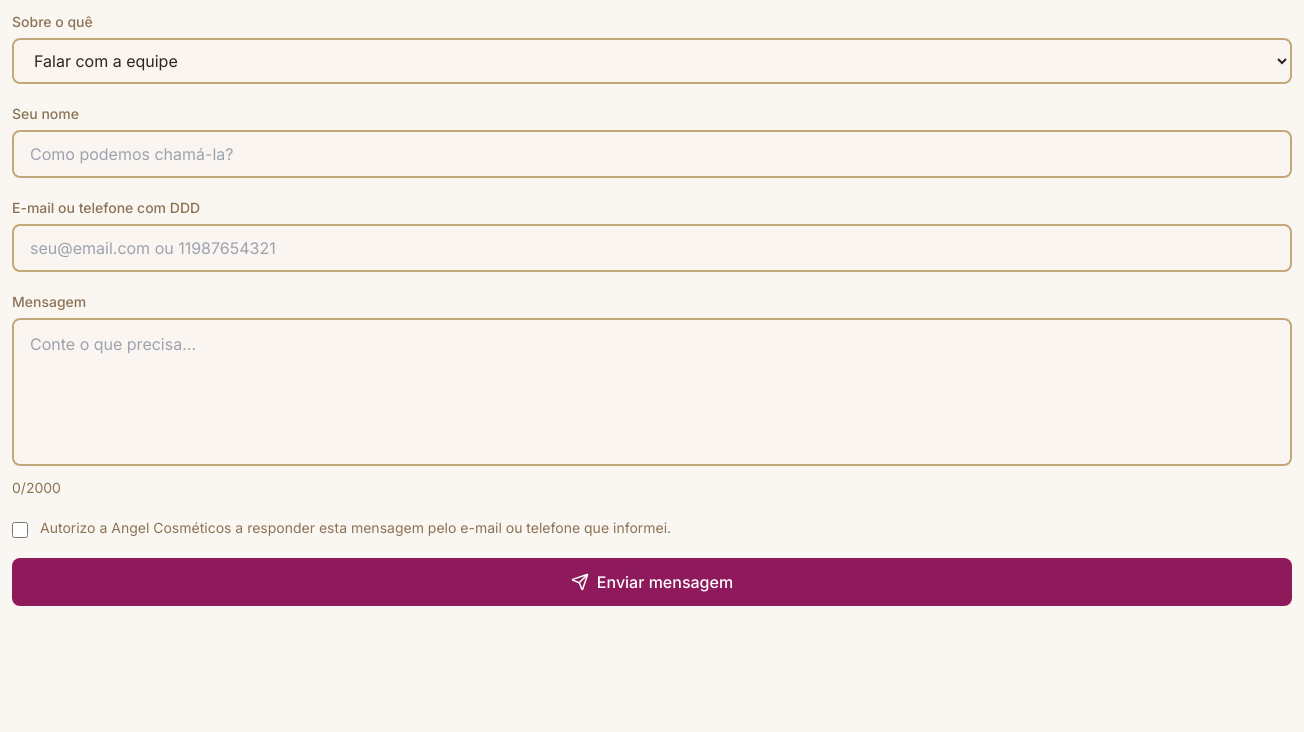
Test: contrato do AtendimentoForm › falha de backend é honesta e preserva os dados
The width and height of the screenshot is (1304, 732).
Type "Ana Paula" into the field labelled "Seu nome".
click(652, 154); type("Ana Paula")  # box [12,130,1292,178]
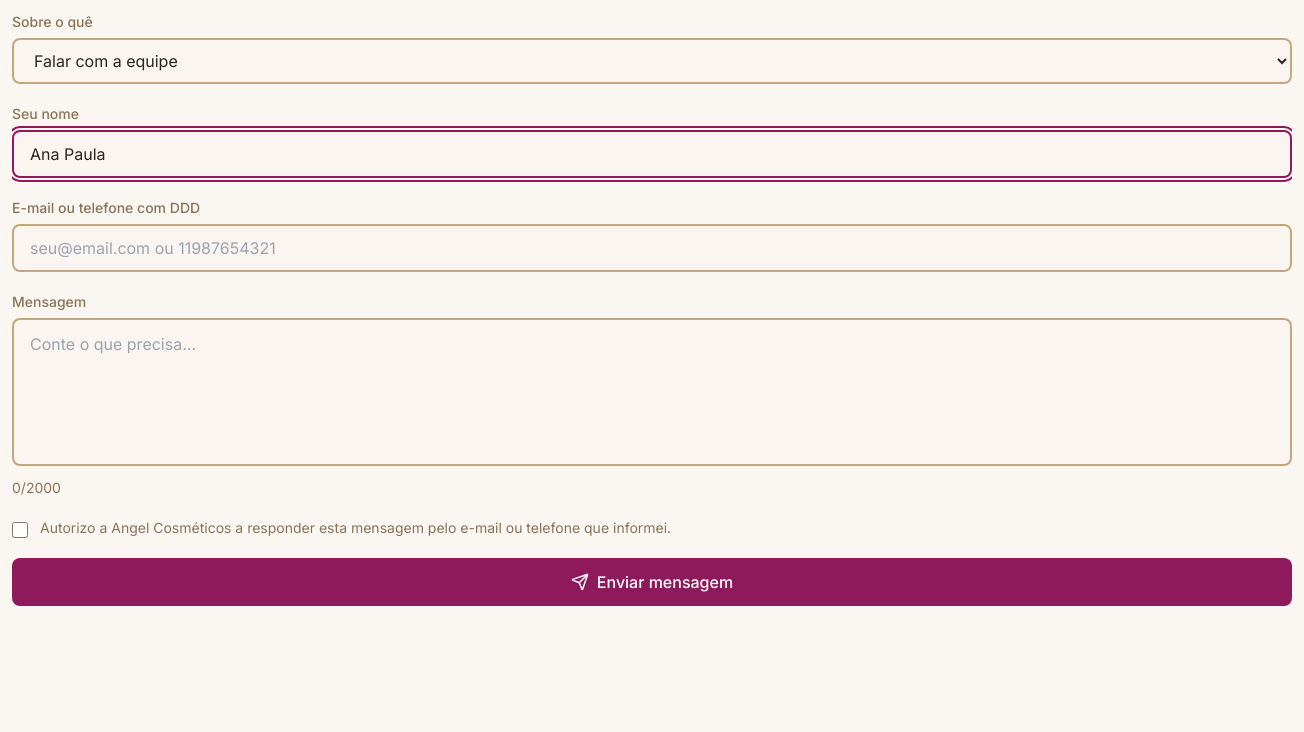
Type "ana@email.com" into the field labelled "E-mail ou telefone com DDD".
click(652, 248); type("ana@email.com")  # box [12,224,1292,272]
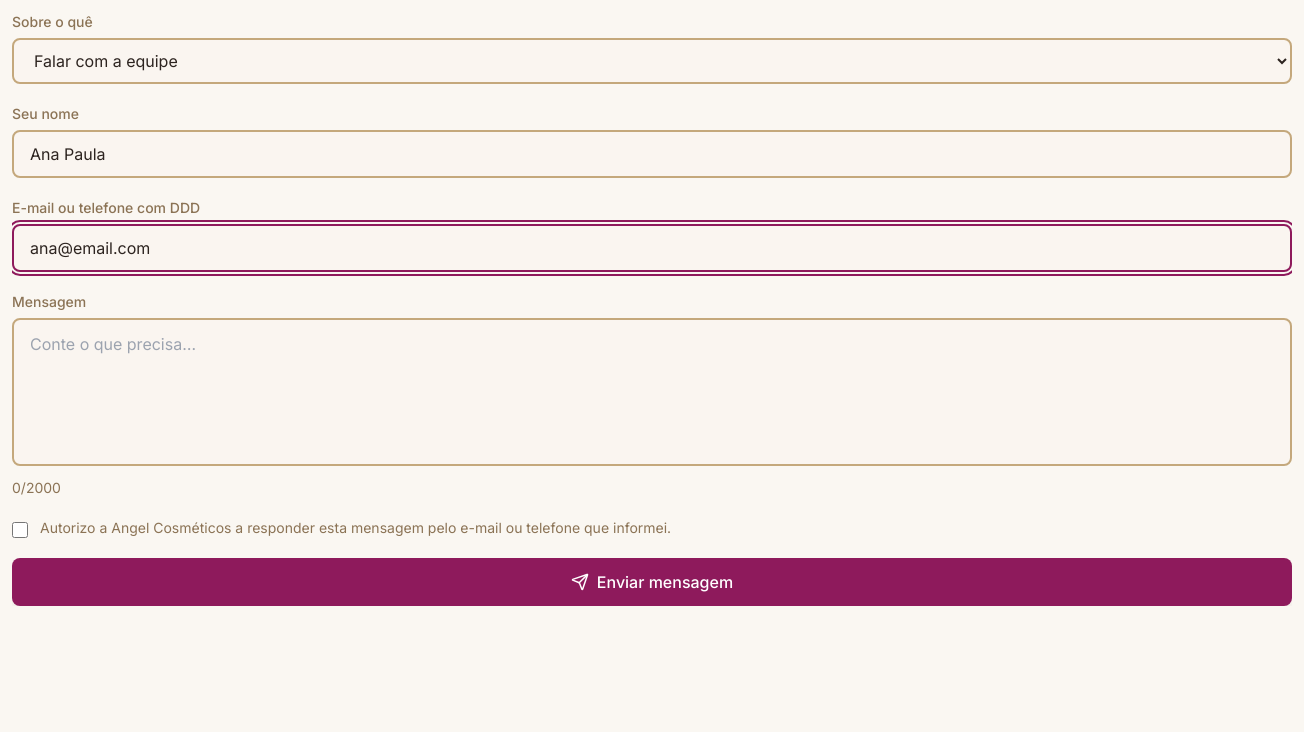
Type "Quero saber sobre o serum." into the text box labelled "Mensagem".
click(652, 392); type("Quero saber sobre o serum.")  # box [12,318,1292,466]
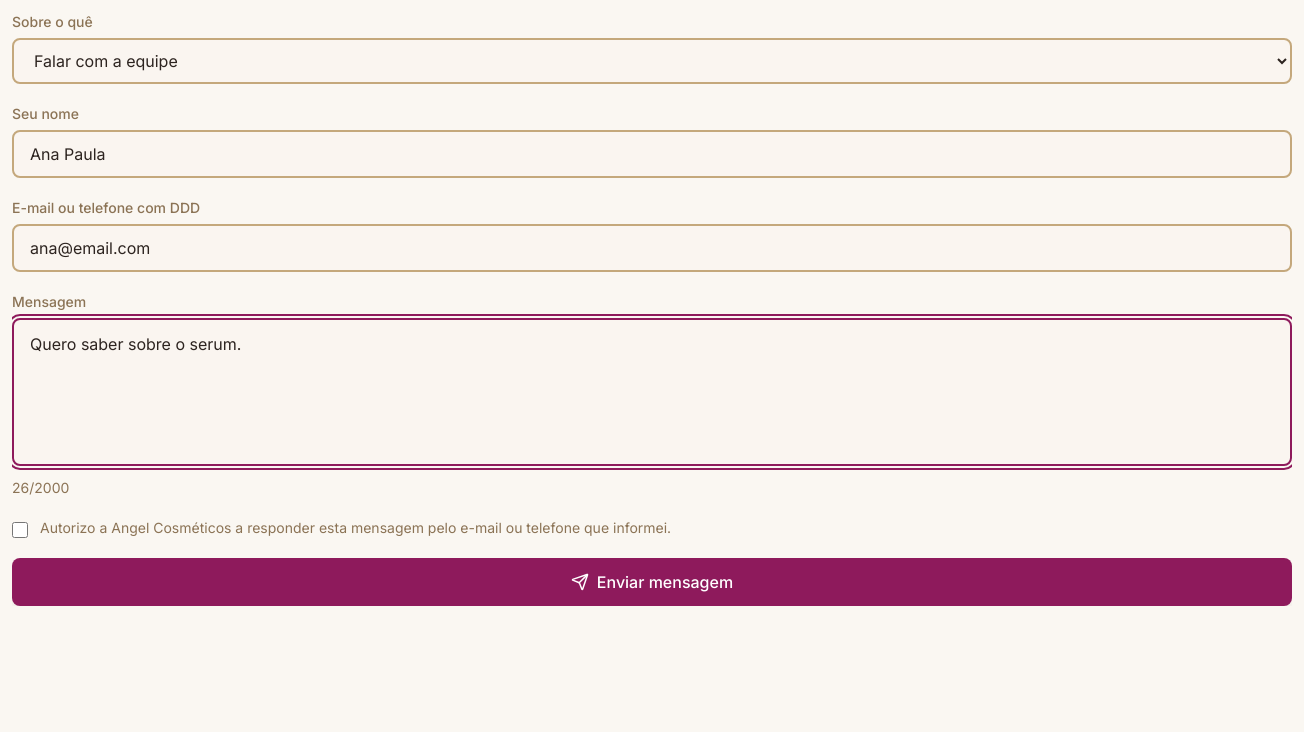
Click the text "Autorizo".
click(356, 528)  # box [40,518,671,538]
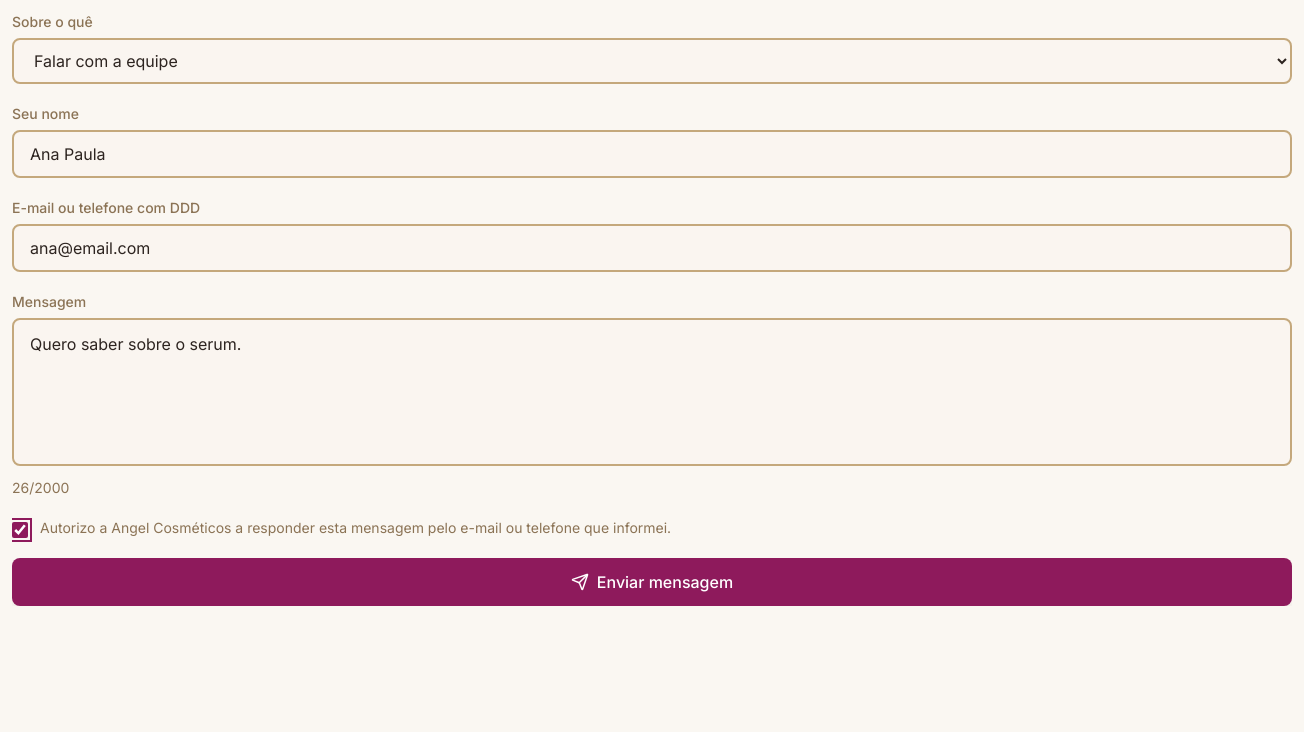
Click the button "Enviar mensagem".
click(652, 582)  # box [12,558,1292,606]
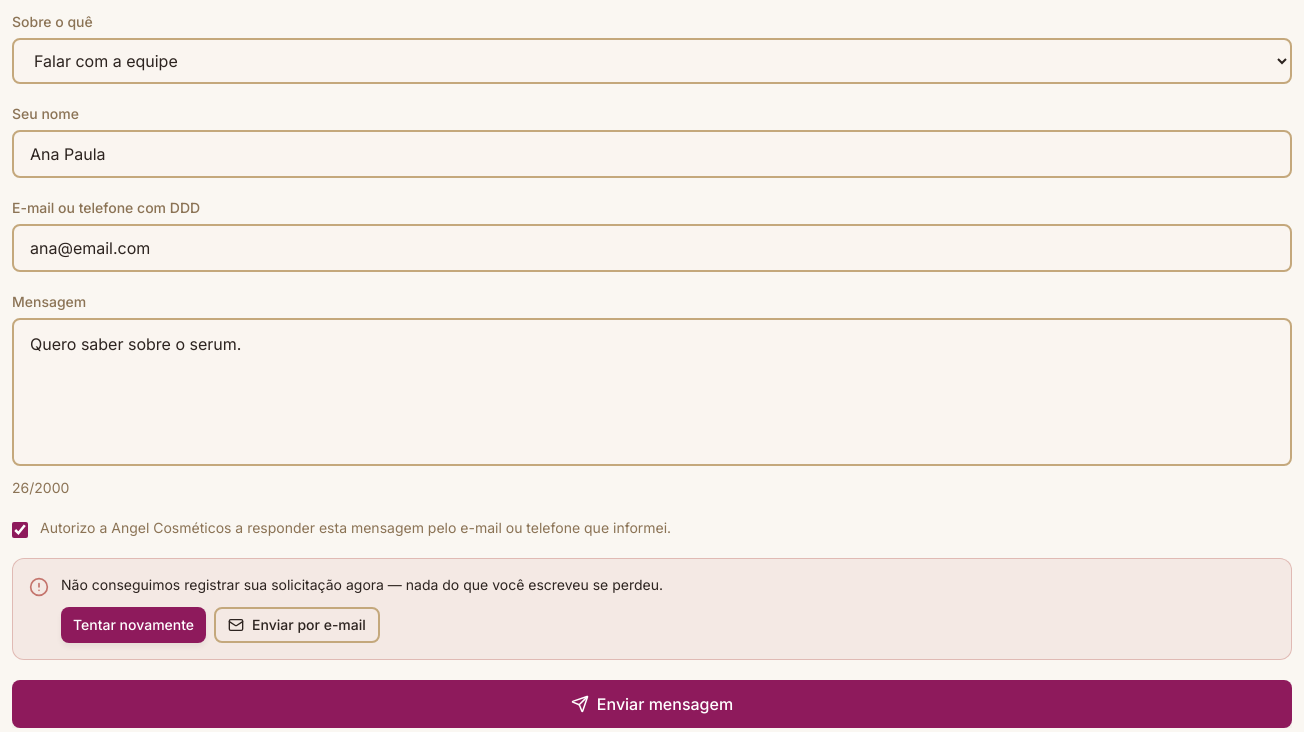
Expected: the message is shown, [12,558,1292,660]
Expected: the text "Não conseguimos registrar" is shown, [61,576,663,593]
